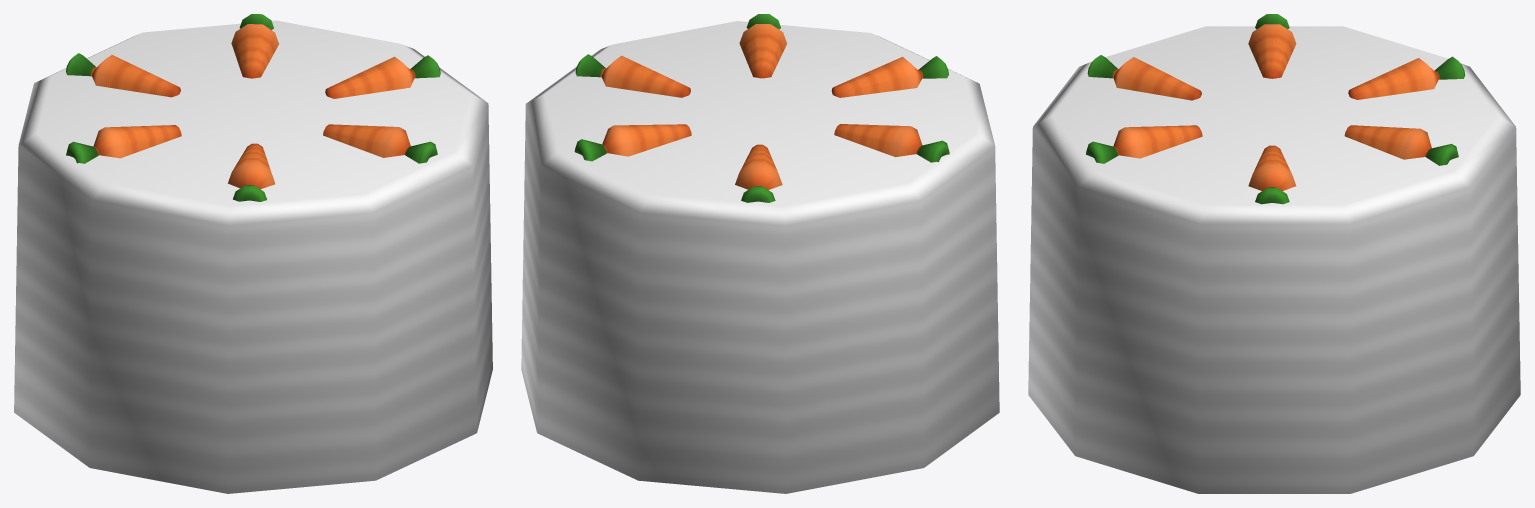
Rendered from Carrot_Tall_Whole.fbx.
3 renders of one model, left to right at view 1: azimuth 30°, elevation 25°; view 2: azimuth 150°, elevation 25°; view 3: azimuth 270°, elevation 25°, orthographic.
Visible parts, largest first — view 1: Carrot_Tall_Whole; view 2: Carrot_Tall_Whole; view 3: Carrot_Tall_Whole.
Boxes of the visible parts, x1=… form: Carrot_Tall_Whole: x1=14, y1=14, x2=492, y2=493; Carrot_Tall_Whole: x1=521, y1=14, x2=999, y2=493; Carrot_Tall_Whole: x1=1028, y1=14, x2=1520, y2=493.
Bounding box in the file's own units: 77.51 × 54.69 × 81.5.
